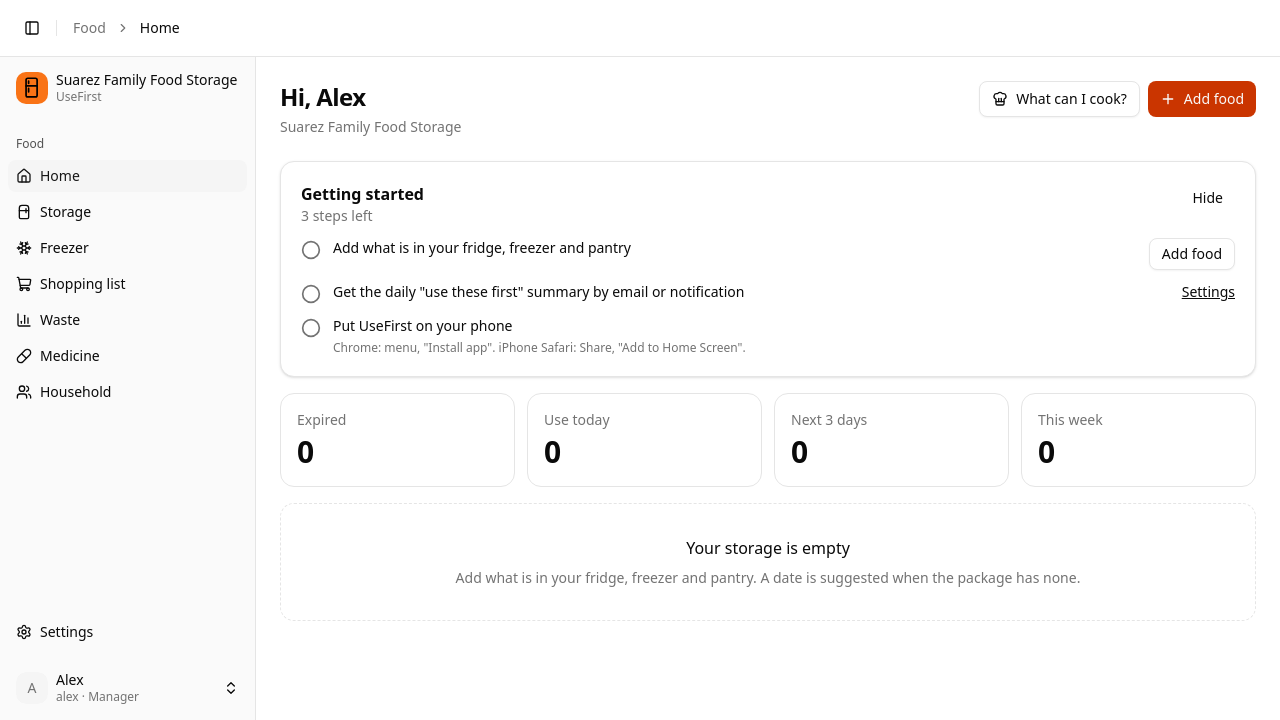
Test: What can I cook? › says why there are no ideas
Check: the text "Your storage is empty" is shown, box [686,537,850,559]
Click the button "What can I cook?" at (1059, 99), box [979,81,1140,117]
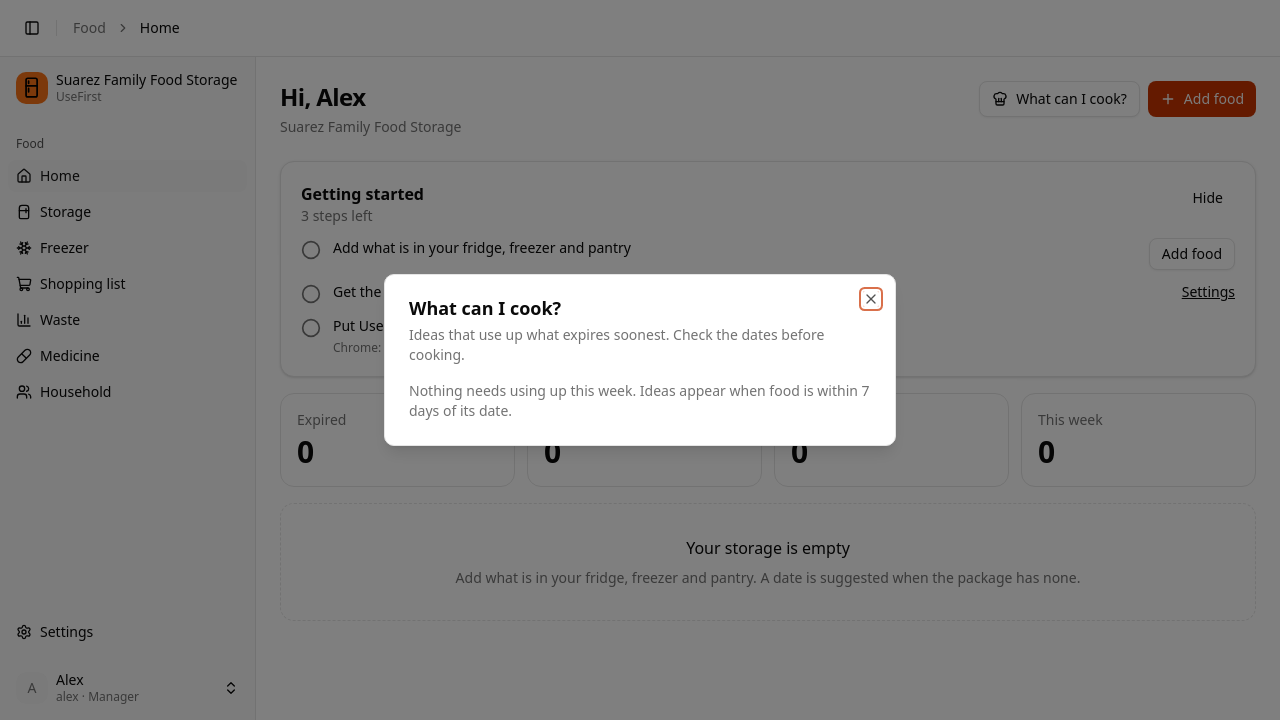
Check: the text "Nothing needs using up this week" is shown, box [409,381,870,420]
